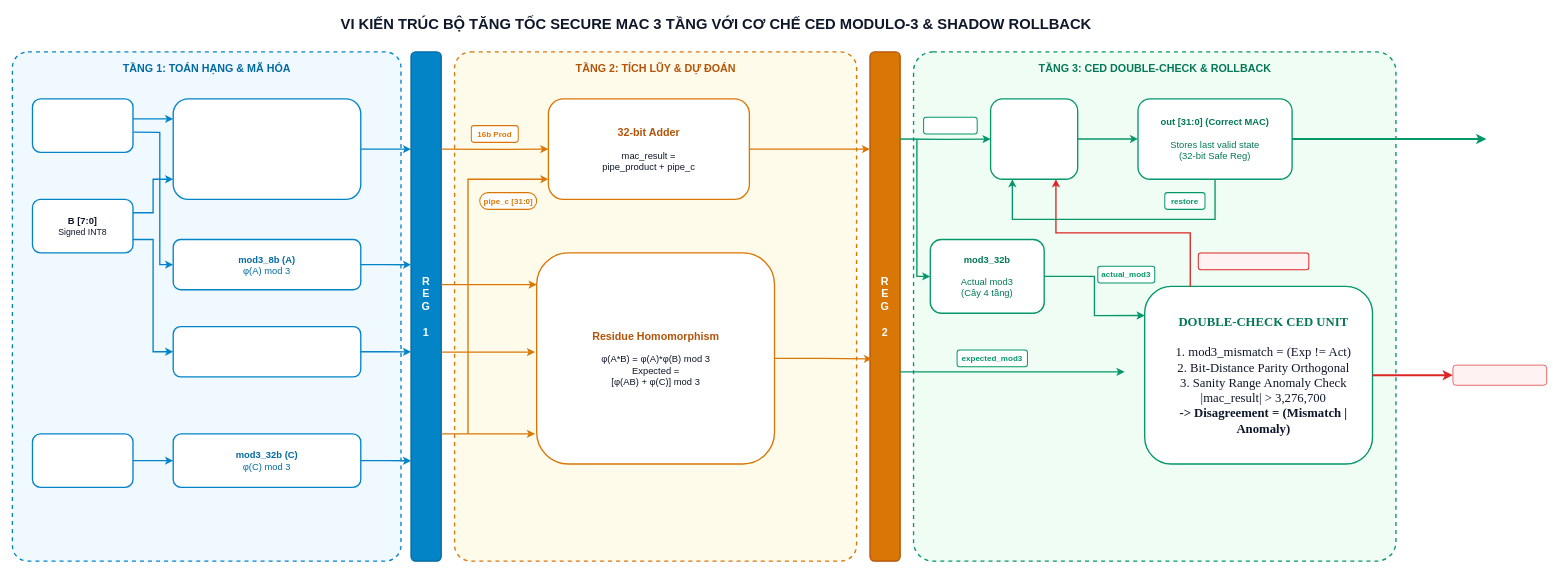
This 1558x573 diagram has some shape labels left out. The shapes that lost their labels are listed below. From the top down, each one's box as (x1, y1, x2, y2) in pixels, then its label:
(31, 98, 133, 153): A [7:0] Signed INT8
(923, 116, 977, 134): mac_result
(990, 98, 1078, 180): Rollback MUX 0: mac_res 1: Shadow
(172, 98, 361, 200): Multiplier A × B -> 16-bit (Pure LUT logic)
(1197, 252, 1309, 270): disagreement (Rollback=1)
(172, 326, 361, 377): mod3_8b (B) φ(B) mod 3
(1452, 364, 1547, 385): irq (Fault Detected)
(31, 433, 133, 488): C [31:0] Accumulator
